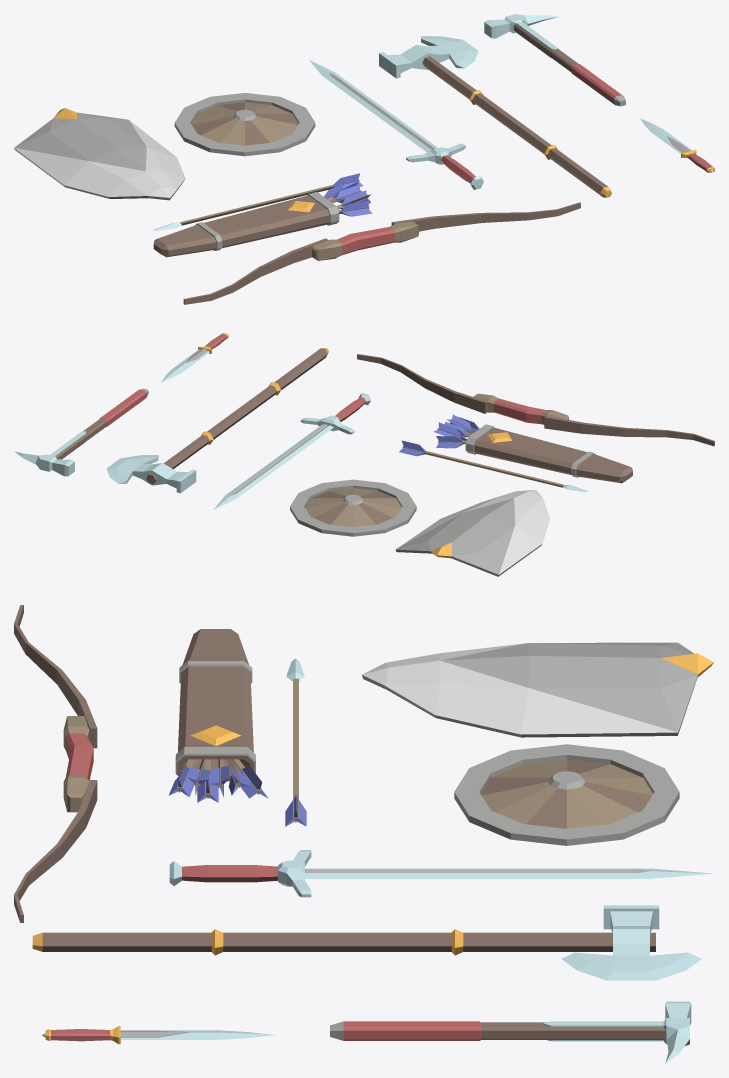
File: melee.FBX
The picture shows the model from 3 angles, top to bottom: view 1: azimuth 30°, elevation 25°; view 2: azimuth 150°, elevation 25°; view 3: azimuth 270°, elevation 25°; orthographic projection. The views are drawn at different scales.
Parts seen in each view (by area): view 1: hshield, lshield, quiver, bow, ax, sword, warhammer, arrow, knife; view 2: hshield, lshield, quiver, bow, ax, sword, warhammer, arrow, knife; view 3: hshield, lshield, ax, quiver, warhammer, sword, bow, knife, arrow.
Part boxes in pixels (x1=…): hshield: x1=14, y1=108, x2=185, y2=200; lshield: x1=174, y1=93, x2=315, y2=156; quiver: x1=153, y1=181, x2=372, y2=257; bow: x1=183, y1=202, x2=580, y2=304; ax: x1=379, y1=36, x2=611, y2=197; sword: x1=309, y1=60, x2=483, y2=189; warhammer: x1=484, y1=14, x2=625, y2=106; arrow: x1=153, y1=173, x2=363, y2=230; knife: x1=640, y1=118, x2=714, y2=172; hshield: x1=395, y1=490, x2=549, y2=576; lshield: x1=290, y1=479, x2=416, y2=536; quiver: x1=433, y1=414, x2=632, y2=483; bow: x1=357, y1=354, x2=714, y2=446; ax: x1=106, y1=348, x2=328, y2=493; sword: x1=213, y1=393, x2=370, y2=509; warhammer: x1=14, y1=388, x2=148, y2=476; arrow: x1=399, y1=440, x2=588, y2=492; knife: x1=161, y1=333, x2=228, y2=382; hshield: x1=362, y1=642, x2=713, y2=737; lshield: x1=454, y1=744, x2=679, y2=845; ax: x1=32, y1=905, x2=701, y2=980; quiver: x1=168, y1=629, x2=268, y2=802; warhammer: x1=330, y1=1001, x2=691, y2=1063; sword: x1=169, y1=850, x2=712, y2=897; bow: x1=14, y1=605, x2=97, y2=922; knife: x1=42, y1=1026, x2=275, y2=1044; arrow: x1=285, y1=658, x2=306, y2=826.
Size of the model in its own units: 129 by 85.04 by 5.56.
